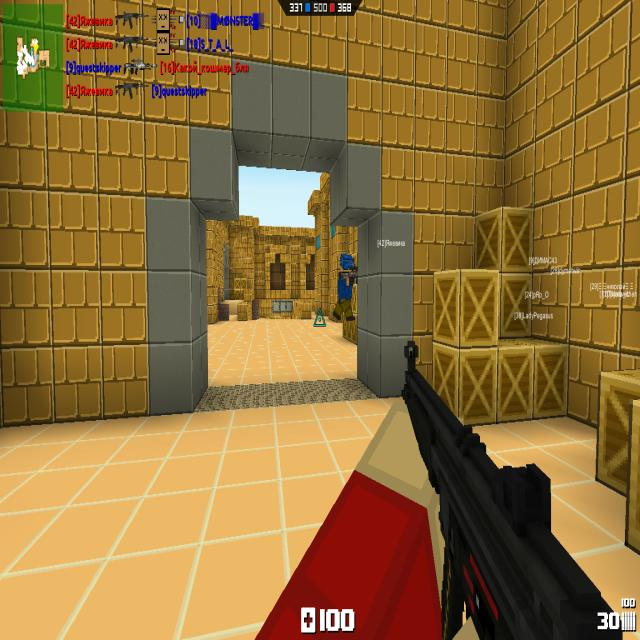enemy: (332, 253, 357, 321)
